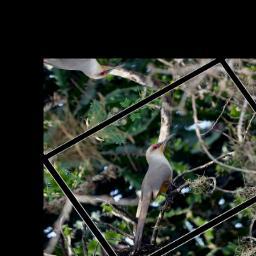Cuckoo: (81, 131, 227, 256)
